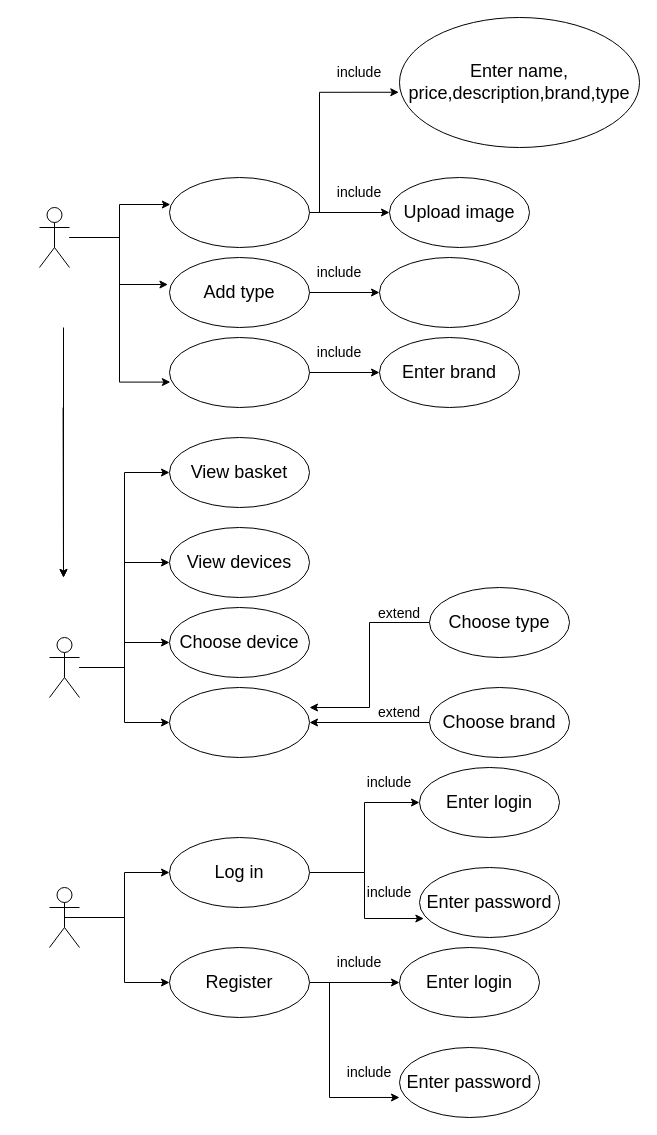
The diagram is 657 pixels wide and 1135 high, and some of its shapes have lost their labels. Here are the shapes that lost their labels. From the top down, the centre of each, then its label:
[239,212]: Add device
[54,237]: Admin
[449,292]: Enter type
[239,372]: Add brand
[64,667]: Registered user
[239,722]: Filter devices
[64,917]: Unregistered user
